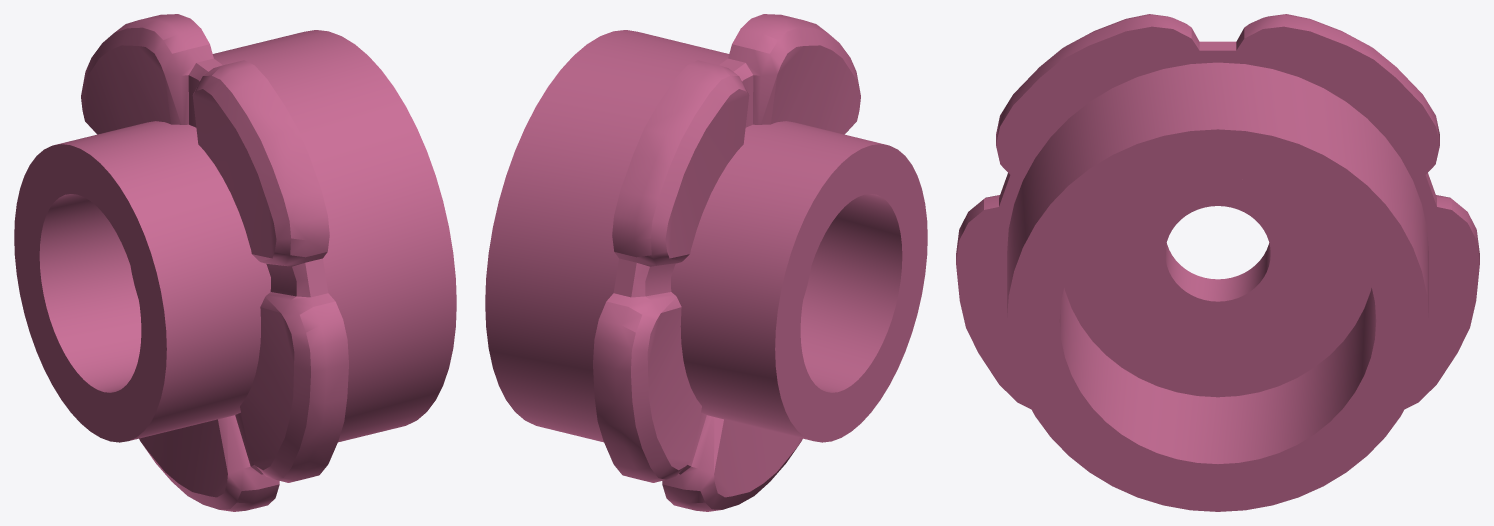
File:  plate_round1*1_with_flower_edge(5_petals)_bright_pink.obj
The picture shows the model from 3 angles, left to right: view 1: azimuth 30°, elevation 25°; view 2: azimuth 150°, elevation 25°; view 3: azimuth 270°, elevation 25°; orthographic projection. The views are drawn at different scales.
Visible parts, largest first — view 1: _plate_round1*1_with_flower_edge(5_petals)_bright_pink; view 2: _plate_round1*1_with_flower_edge(5_petals)_bright_pink; view 3: _plate_round1*1_with_flower_edge(5_petals)_bright_pink.
Boxes of the visible parts, <box> form: _plate_round1*1_with_flower_edge(5_petals)_bright_pink: <box>14,14,456,511</box>; _plate_round1*1_with_flower_edge(5_petals)_bright_pink: <box>485,14,927,511</box>; _plate_round1*1_with_flower_edge(5_petals)_bright_pink: <box>956,14,1479,511</box>.
Size of the model in its own units: 12 by 19.54 by 19.85.
